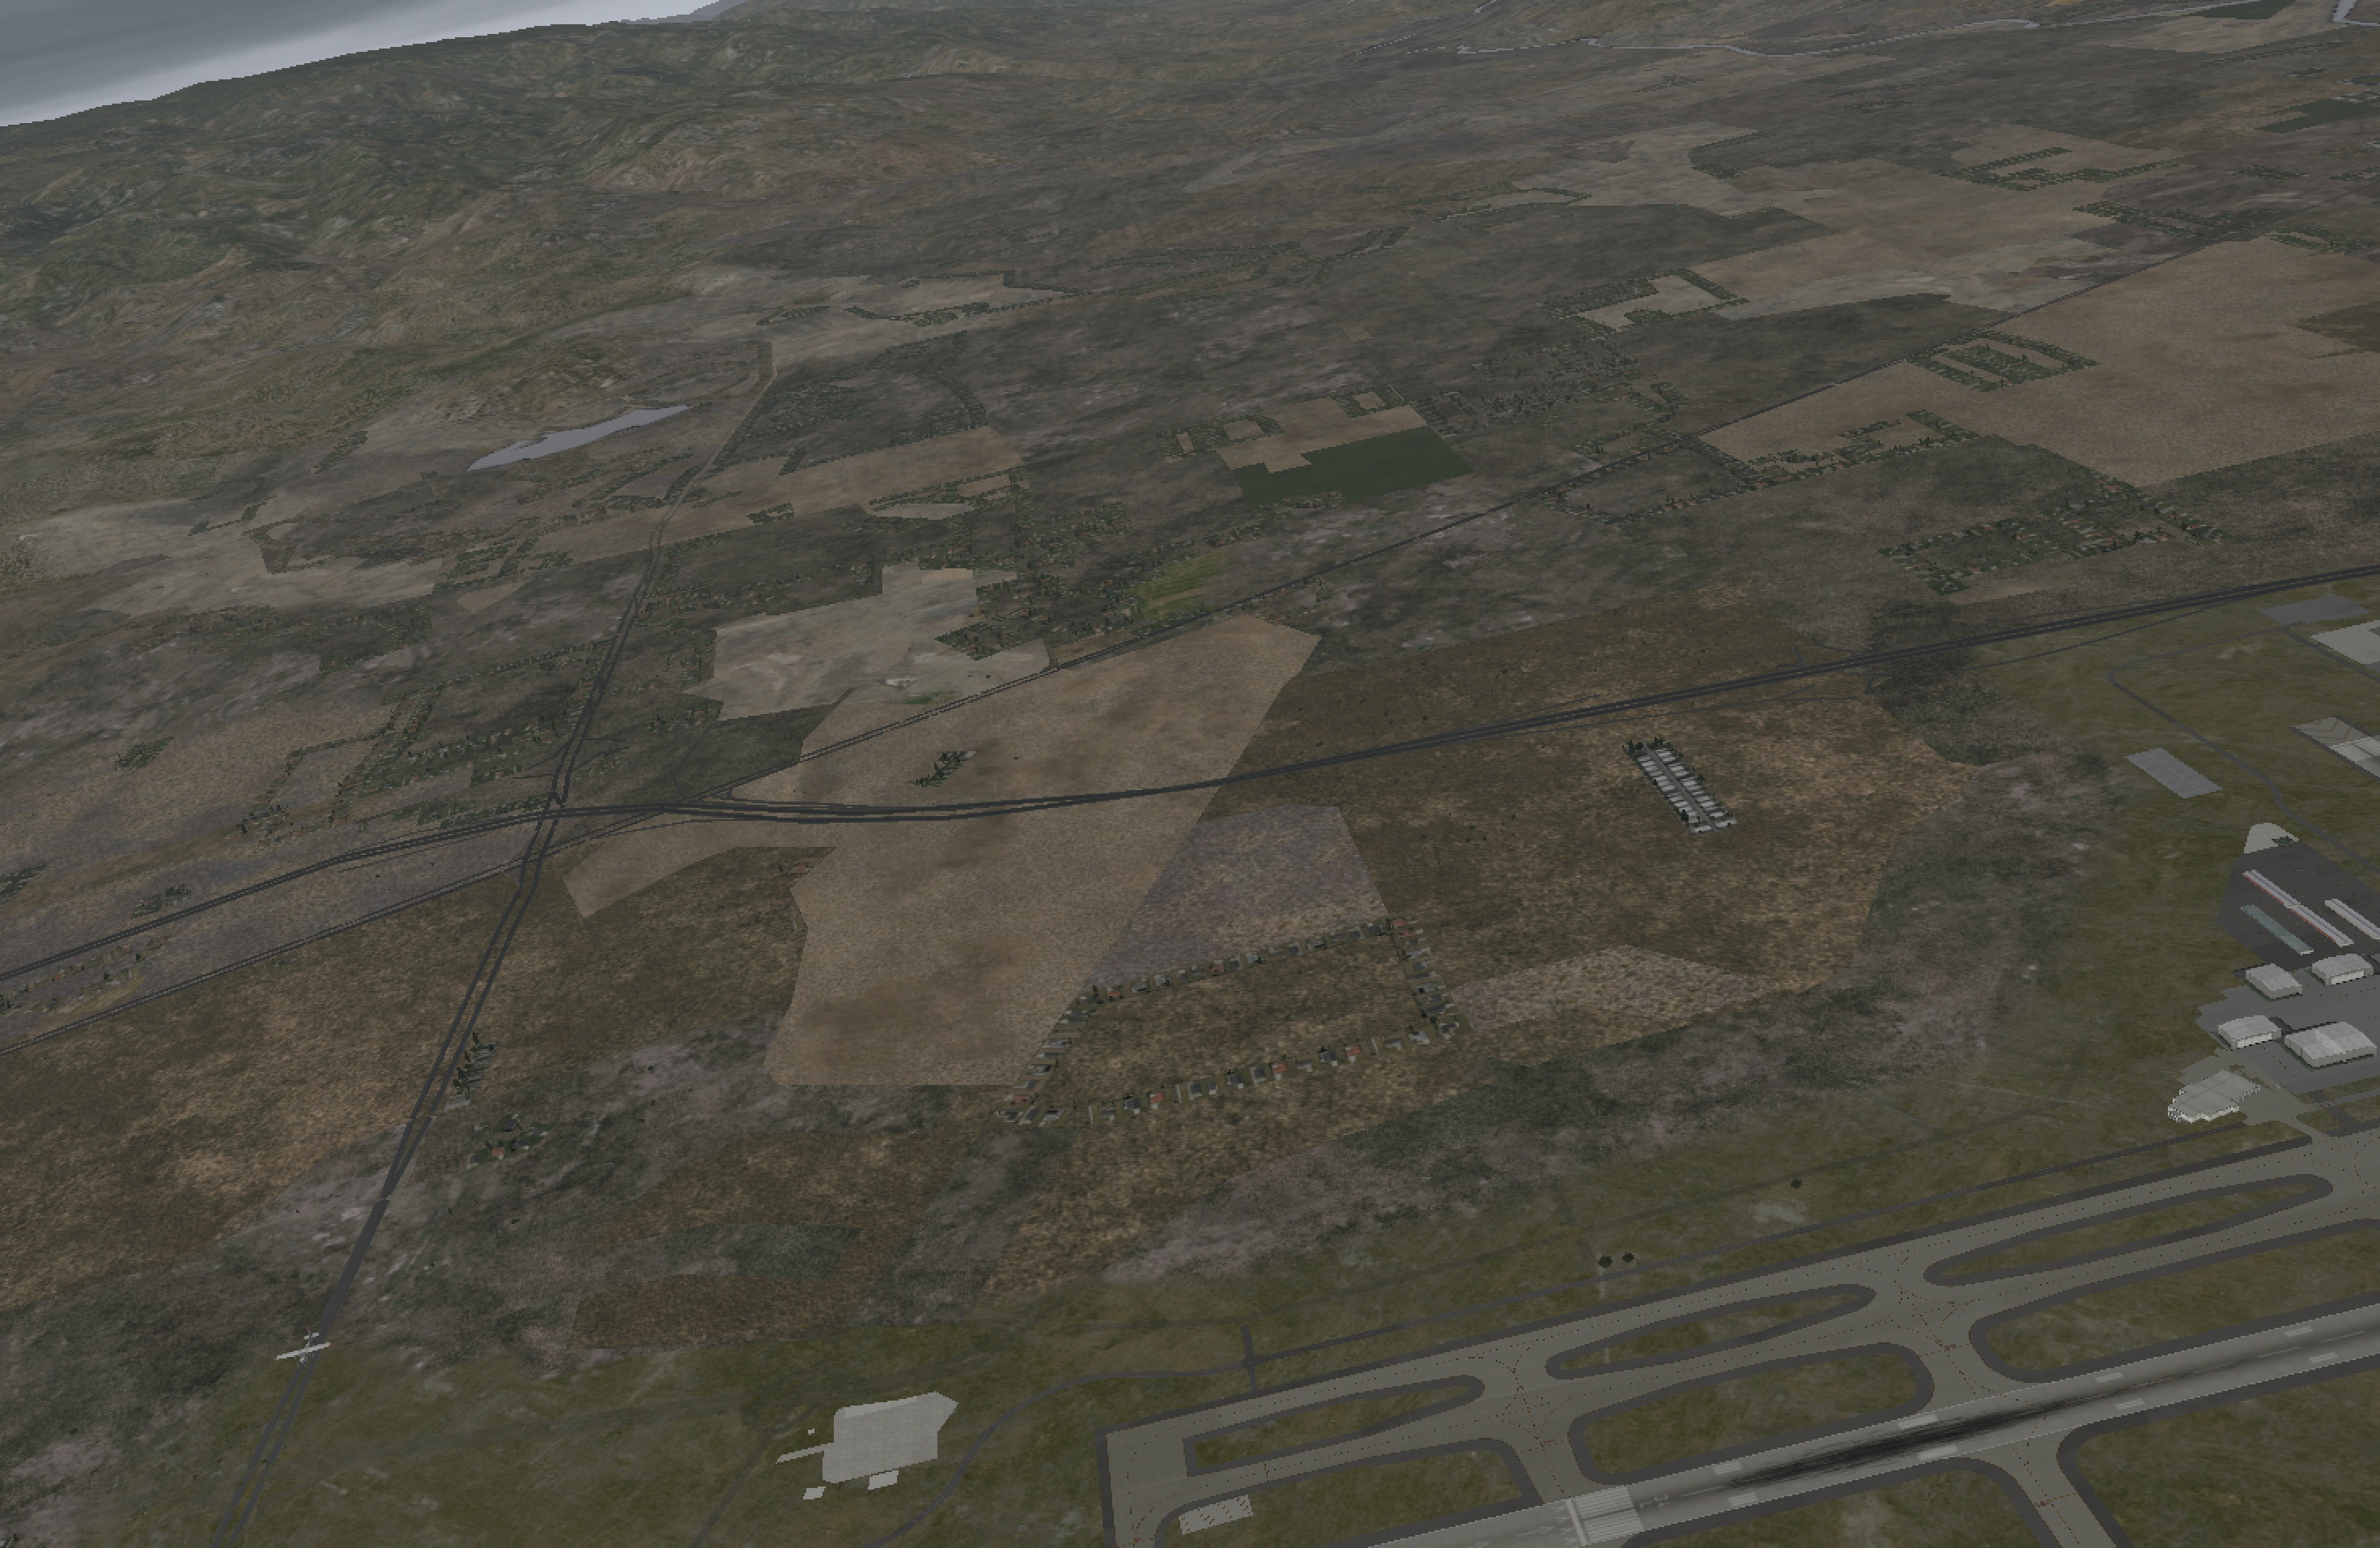aircraft: (286, 1347, 323, 1361)
